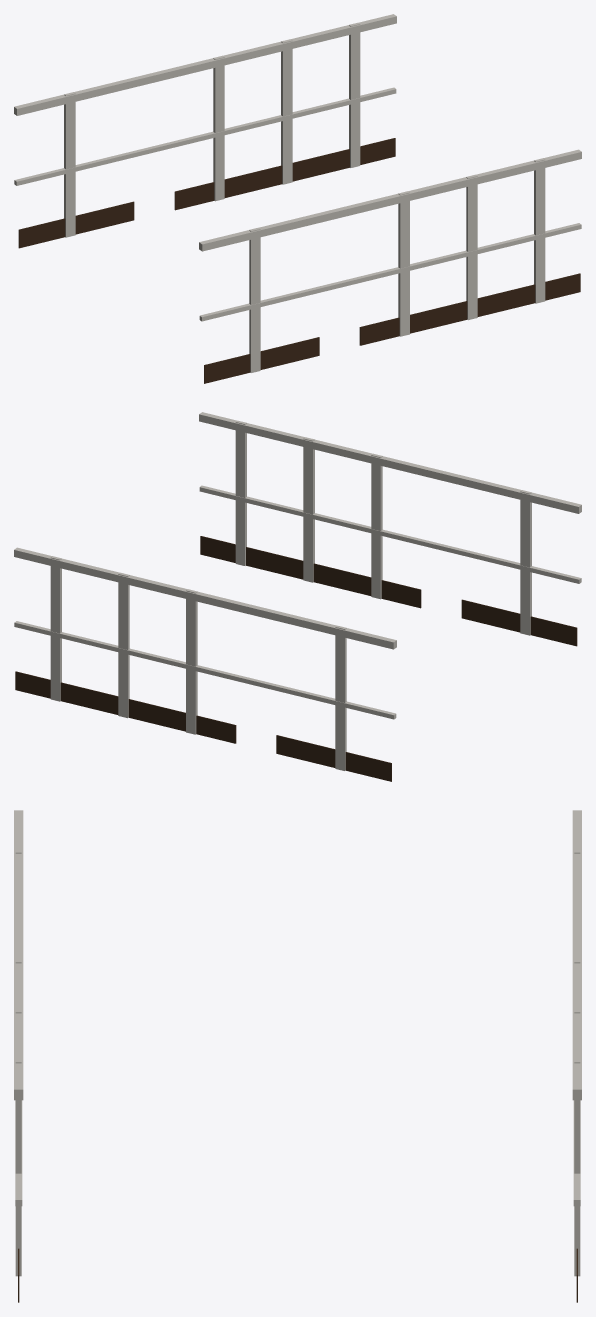
The model's file is SM_Malikane_Hol_Dekor.fbx.
3 renders of one model, top to bottom at view 1: azimuth 30°, elevation 25°; view 2: azimuth 150°, elevation 25°; view 3: azimuth 270°, elevation 25°, orthographic. The views are drawn at different scales.
Parts seen in each view (by area): view 1: Malikane_Hol_Dekor; view 2: Malikane_Hol_Dekor; view 3: Malikane_Hol_Dekor.
Part boxes in pixels (x1,y1,x2,y2): Malikane_Hol_Dekor: (14, 14, 581, 383); Malikane_Hol_Dekor: (14, 412, 581, 781); Malikane_Hol_Dekor: (14, 810, 581, 1302).
Bounding box in the file's own units: 2800 × 1000 × 2404.
